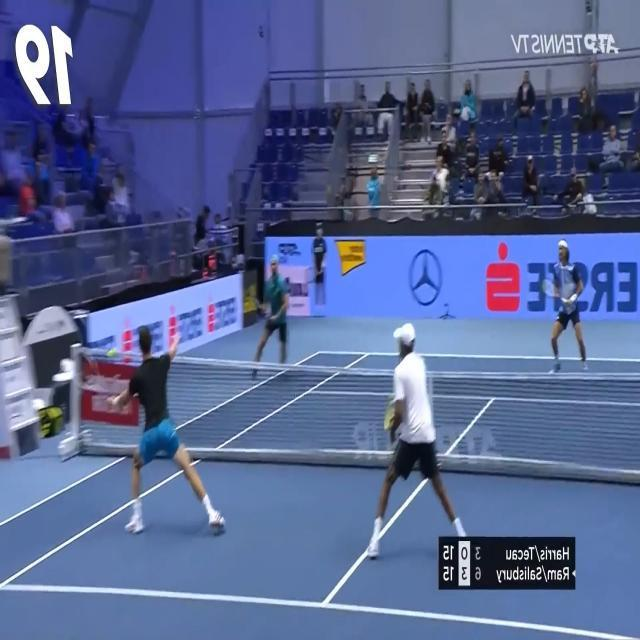player: (106, 324, 227, 538), (364, 320, 470, 561)
